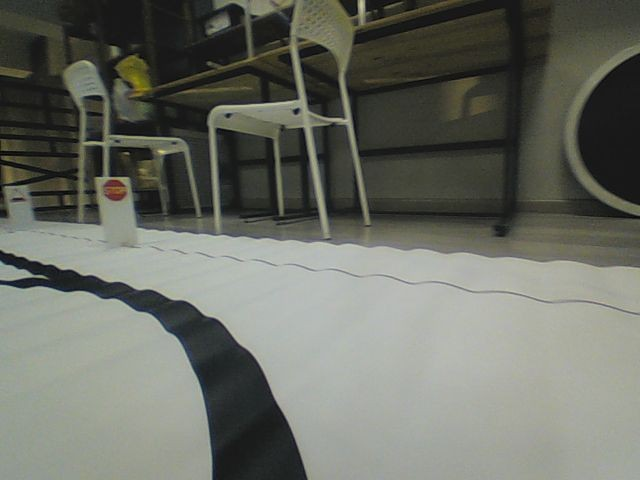Nerov: (9, 188, 26, 204)
Stop: (101, 178, 127, 202)
